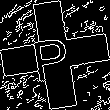P_N: (32, 27, 78, 83)
